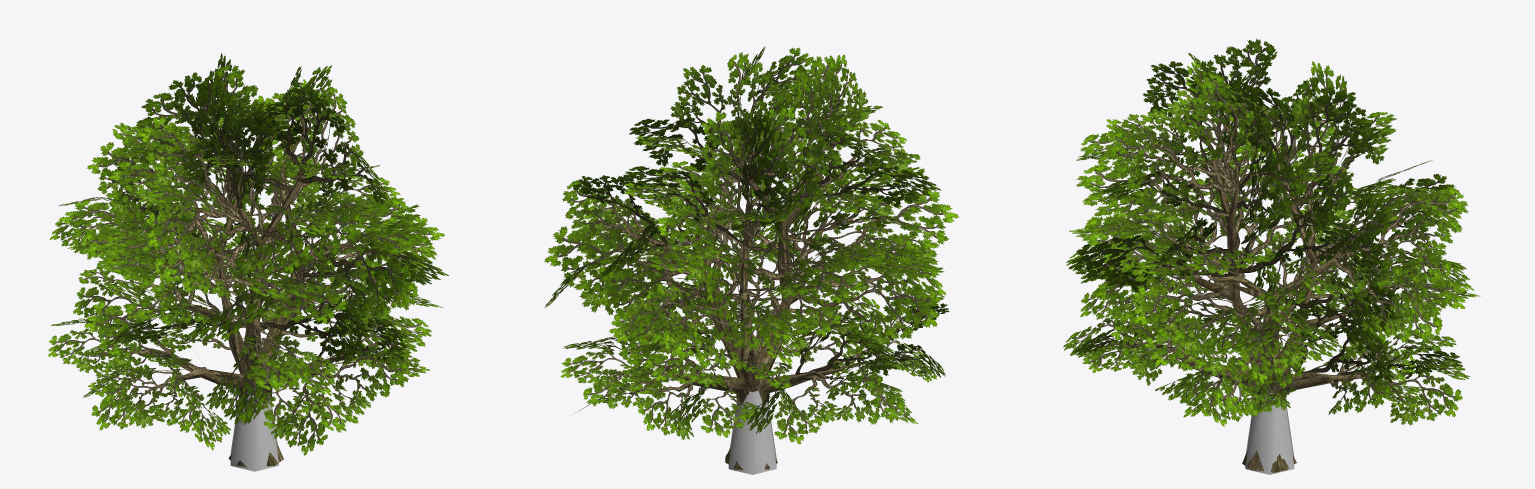
File: MapleTree.DAE
3 renders of one model, left to right at view 1: azimuth 30°, elevation 25°; view 2: azimuth 150°, elevation 25°; view 3: azimuth 270°, elevation 25°, orthographic.
Parts seen in each view (by area): view 1: leaf200, leaf700, trunk700, col-1, trunk200; view 2: leaf200, leaf700, trunk700, col-1, trunk200; view 3: leaf200, leaf700, trunk700, col-1, trunk200.
Part boxes in pixels (x1,y1,x2,y2): leaf200: (48,53,445,455); leaf700: (53,65,448,408); trunk700: (150,175,351,467); col-1: (230,388,278,471); trunk200: (155,246,325,466); leaf200: (544,46,959,444); leaf700: (563,58,949,416); trunk700: (659,159,865,470); col-1: (728,391,776,474); trunk200: (695,222,860,469); leaf200: (1063,51,1480,426); leaf700: (1068,38,1466,385); trunk700: (1174,159,1374,472); col-1: (1245,390,1294,474); trunk200: (1190,226,1334,470).
Size of the model in its own units: 40.95 by 41.32 by 39.52.
